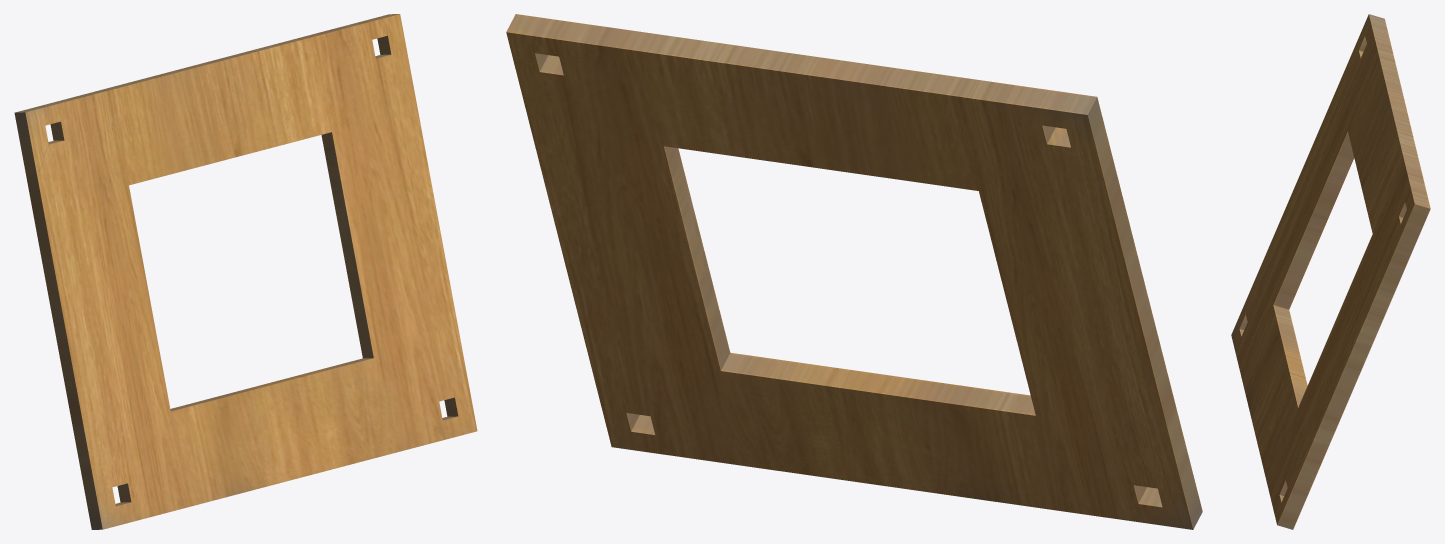
3 renders of one model, left to right at view 1: azimuth 30°, elevation 25°; view 2: azimuth 150°, elevation 25°; view 3: azimuth 270°, elevation 25°, orthographic. The views are drawn at different scales.
Visible parts, largest first — view 1: node_id3; view 2: node_id3; view 3: node_id3.
Boxes of the visible parts, box(x1,y1,x2,y2) form: node_id3: box(14, 14, 477, 529); node_id3: box(506, 14, 1202, 529); node_id3: box(1231, 14, 1430, 529).
Bounding box in the file's own units: 0.5109 × 0.4672 × 0.2464.
1 material, 1 textured.
